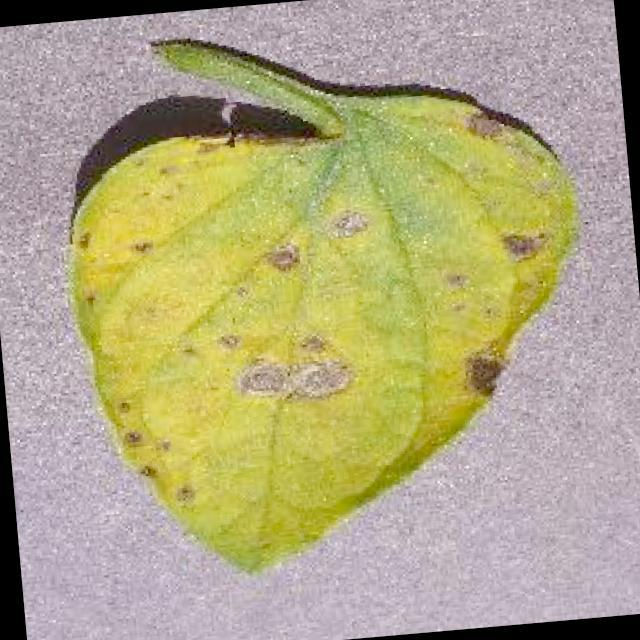Tomato Septoria spot leaf: (55, 75, 615, 589)
